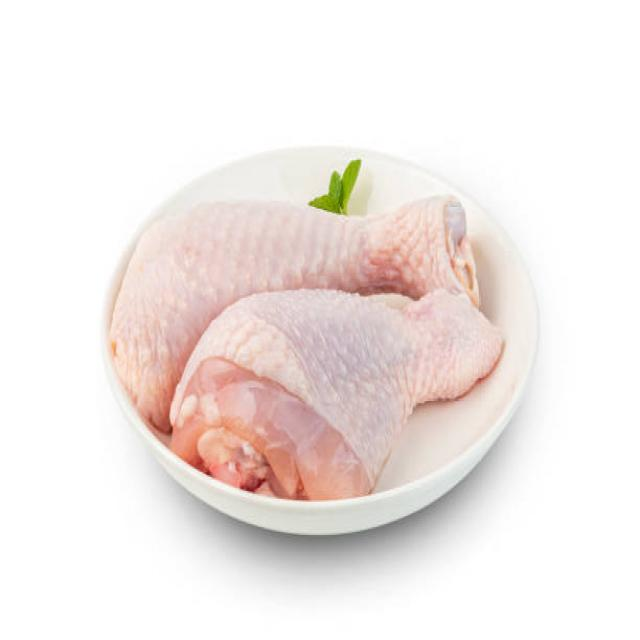Chicken: (191, 286, 488, 502)
